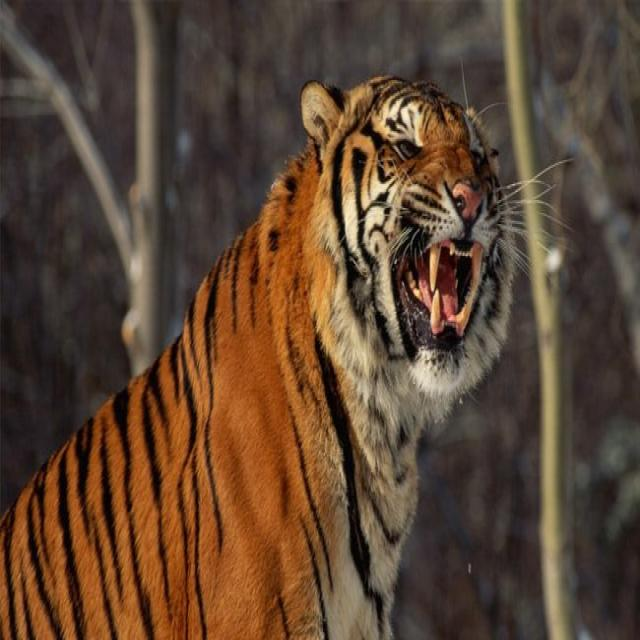Tiger: (0, 67, 572, 638)
